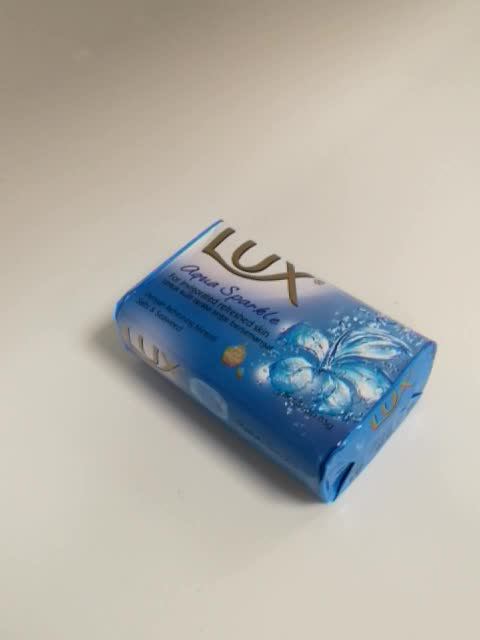soap: (111, 215, 440, 506)
